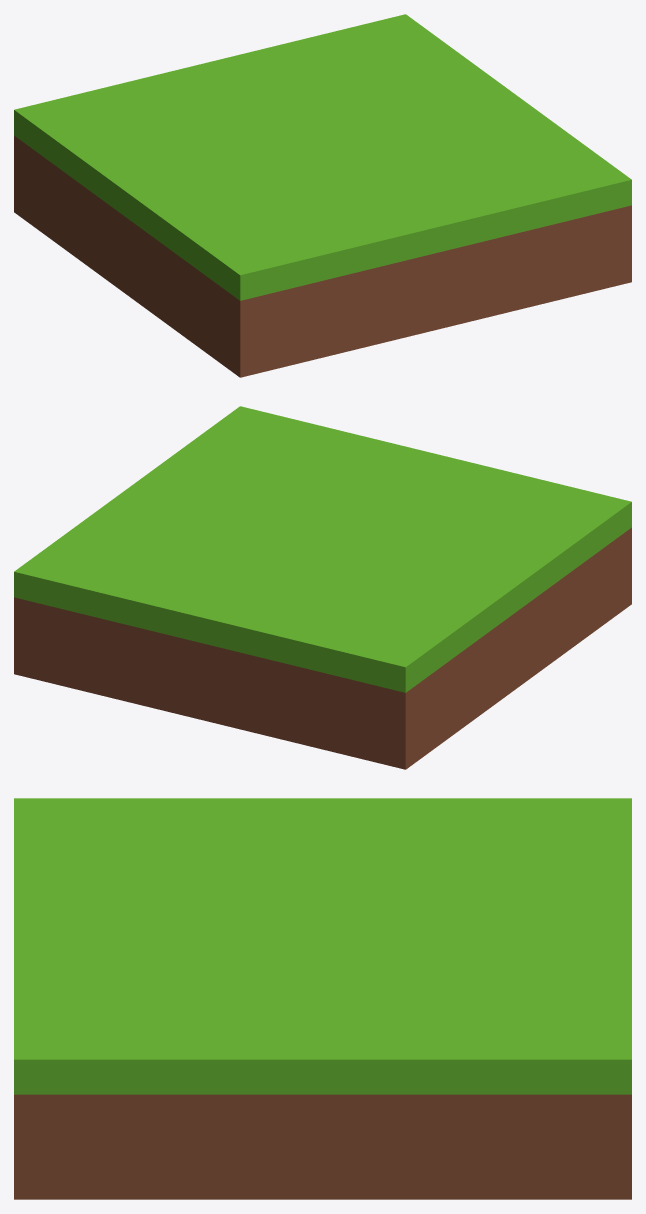
Rendered from floor.gltf.
3 views of the same model, one above another, from view 1: azimuth 30°, elevation 25°; view 2: azimuth 150°, elevation 25°; view 3: azimuth 270°, elevation 25° (orthographic). The views are drawn at different scales.
Visible parts, largest first — view 1: Layer.1; view 2: Layer.1; view 3: Layer.1.
Part boxes in pixels (x1,y1,x2,y2): Layer.1: (14,14,631,377); Layer.1: (14,406,631,769); Layer.1: (14,798,631,1199).
Bounding box in the file's own units: 16 × 4 × 16.
Materials: 1 (1 with a texture image).
